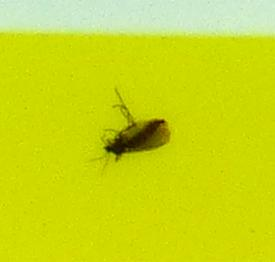Nematocera: (100, 100, 175, 162)
